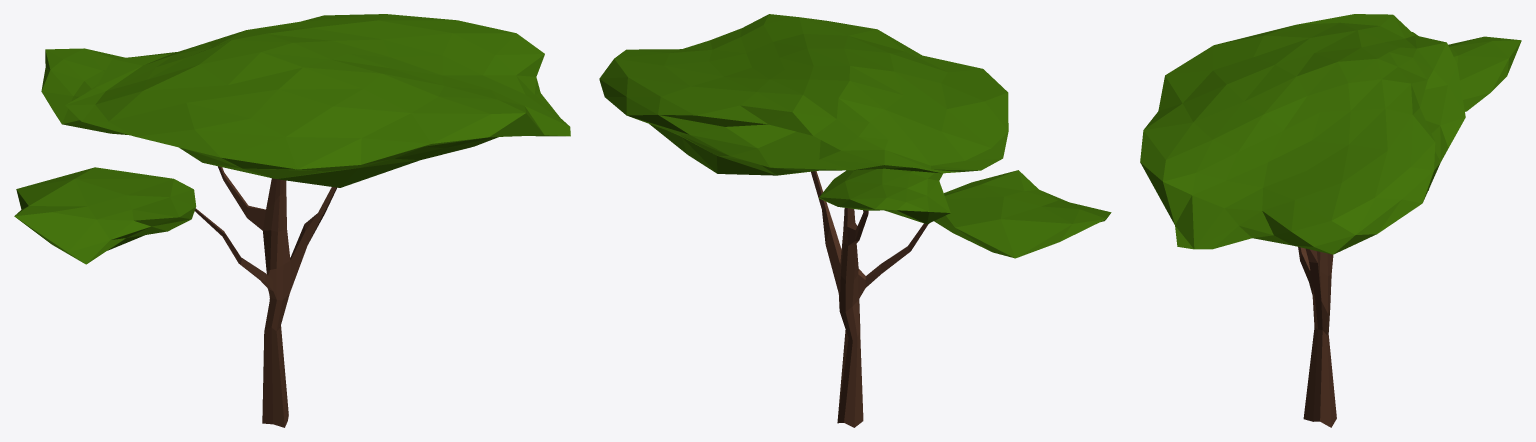
File: Desert_Tree_Tall_2.fbx
3 renders of one model, left to right at view 1: azimuth 30°, elevation 25°; view 2: azimuth 150°, elevation 25°; view 3: azimuth 270°, elevation 25°, orthographic. The views are drawn at different scales.
Visible parts, largest first — view 1: Desert Tree Tall 2; view 2: Desert Tree Tall 2; view 3: Desert Tree Tall 2.
Part boxes in pixels (x1,y1,x2,y2): Desert Tree Tall 2: [14, 14, 570, 427]; Desert Tree Tall 2: [599, 14, 1111, 427]; Desert Tree Tall 2: [1140, 14, 1521, 427].
Size of the model in its own units: 2852 by 1910 by 1842.
